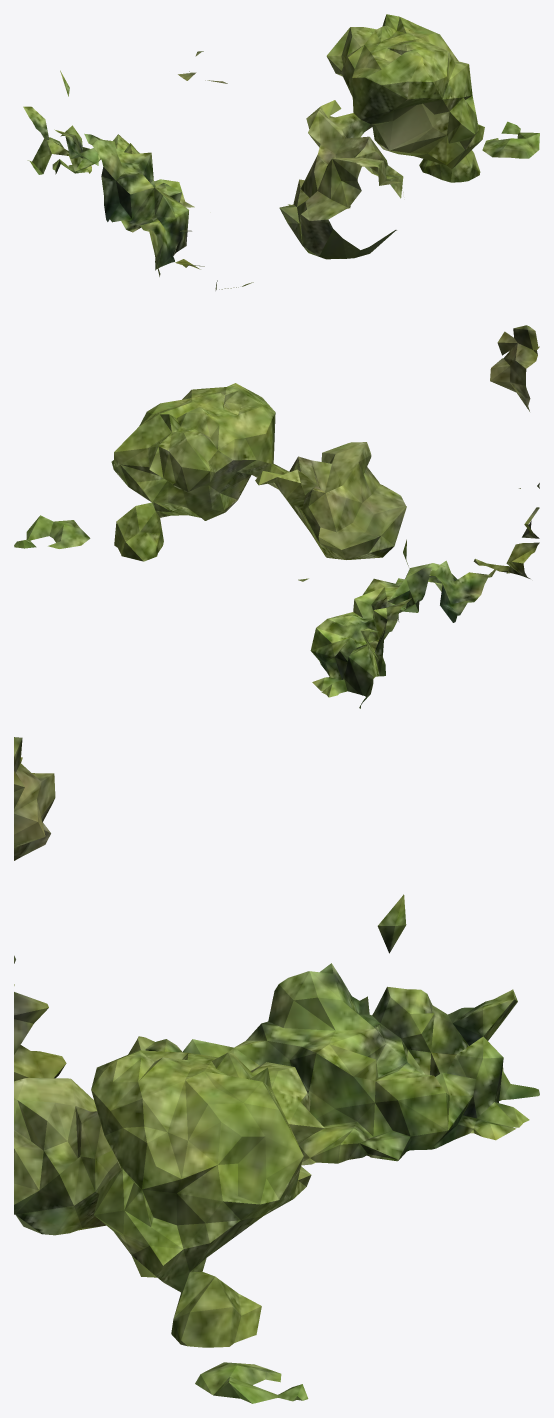
3 views of the same model, one above another, from view 1: azimuth 30°, elevation 25°; view 2: azimuth 150°, elevation 25°; view 3: azimuth 270°, elevation 25° (orthographic). The views are drawn at different scales.
Bounding box in the file's own units: 21.4 × 11.8 × 15.38.
1 material, 1 textured.
